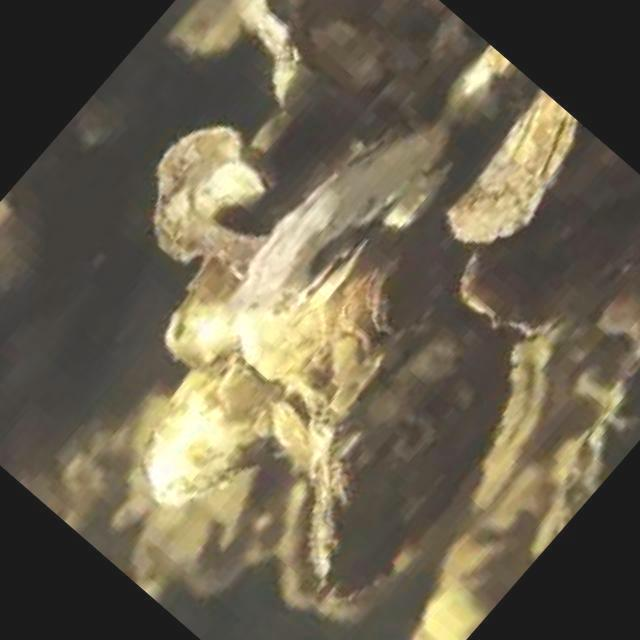Oyster-Closed: (308, 320, 507, 609), (499, 288, 639, 602), (249, 122, 456, 310), (444, 81, 582, 249), (140, 348, 279, 512), (152, 120, 281, 263), (458, 220, 593, 337), (364, 214, 464, 335), (233, 296, 343, 396), (161, 260, 248, 366), (296, 0, 391, 87), (130, 507, 213, 589), (265, 477, 313, 603), (439, 50, 503, 142), (107, 389, 163, 490), (185, 517, 247, 587), (238, 0, 298, 60), (263, 393, 308, 469)
Oyster-Open: (291, 229, 375, 309)
